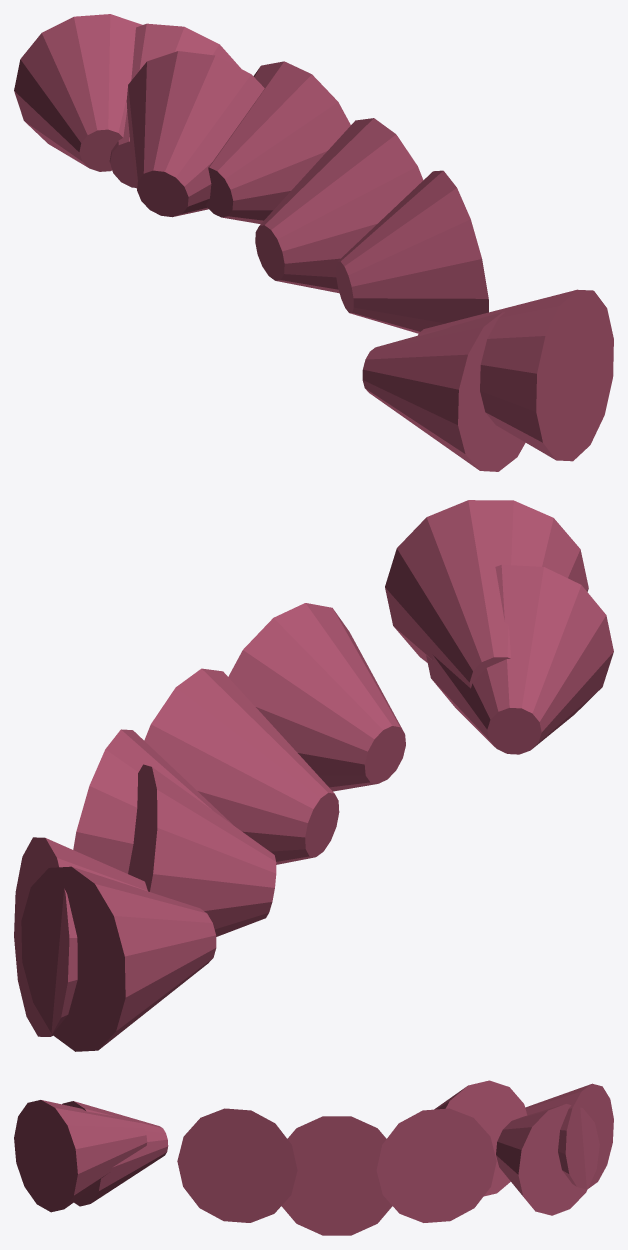
The model's file is medulla_pyramids.glb.
3 views of the same model, one above another, from view 1: azimuth 30°, elevation 25°; view 2: azimuth 150°, elevation 25°; view 3: azimuth 270°, elevation 25° (orthographic). The views are drawn at different scales.
Visible parts, largest first — view 1: geometry_0; view 2: geometry_0; view 3: geometry_0.
Part boxes in pixels (x1,y1,x2,y2): geometry_0: (14,14,613,471); geometry_0: (14,500,613,1051); geometry_0: (14,1080,613,1235).
Size of the model in its own units: 19.1 by 17.81 by 78.33.
